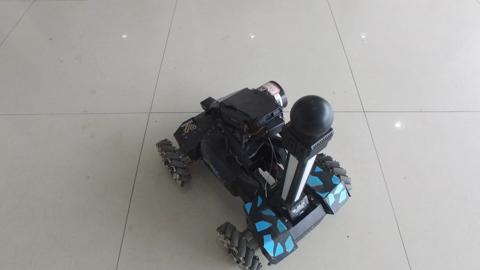chariot: (142, 82, 363, 270)
